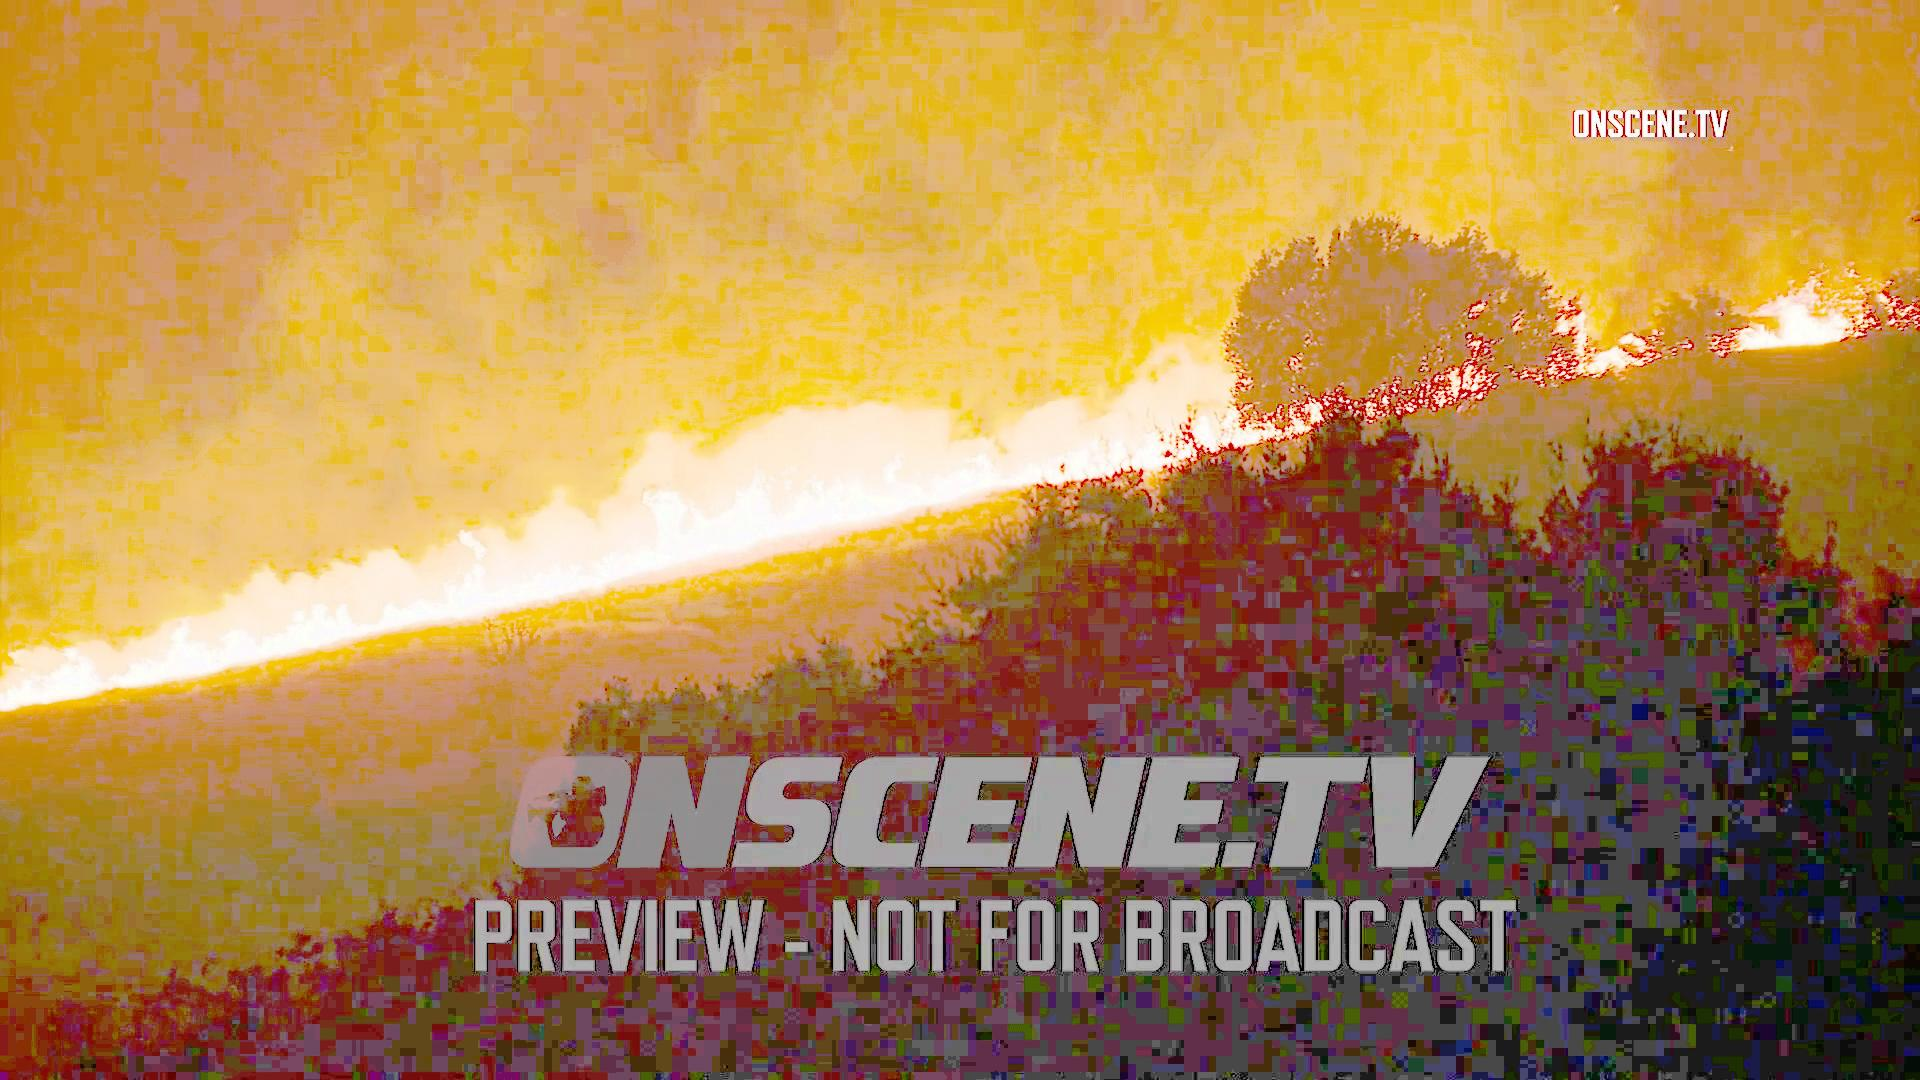fire: (621, 463, 913, 538), (150, 603, 351, 658)
